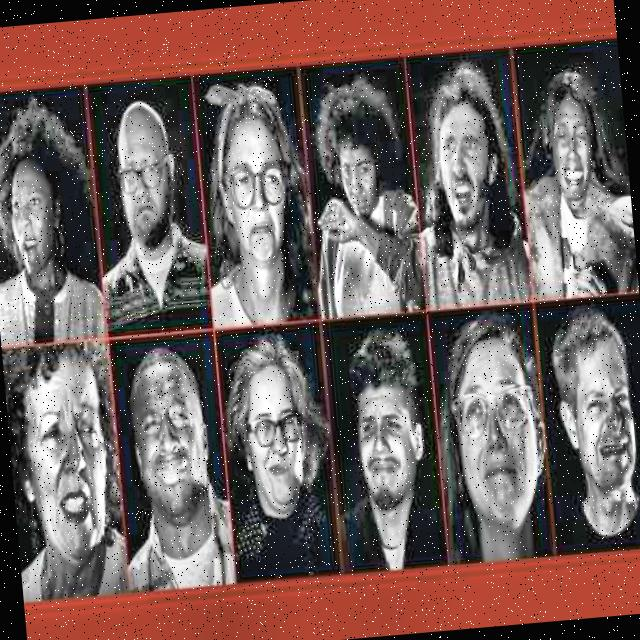sad: (188, 66, 323, 330), (84, 74, 213, 340), (323, 311, 452, 575), (107, 333, 237, 592), (215, 326, 344, 586), (1, 341, 129, 602), (513, 41, 638, 298), (303, 59, 424, 314), (430, 308, 552, 560), (529, 285, 640, 557), (0, 87, 104, 351)
surprised: (407, 48, 532, 306)
